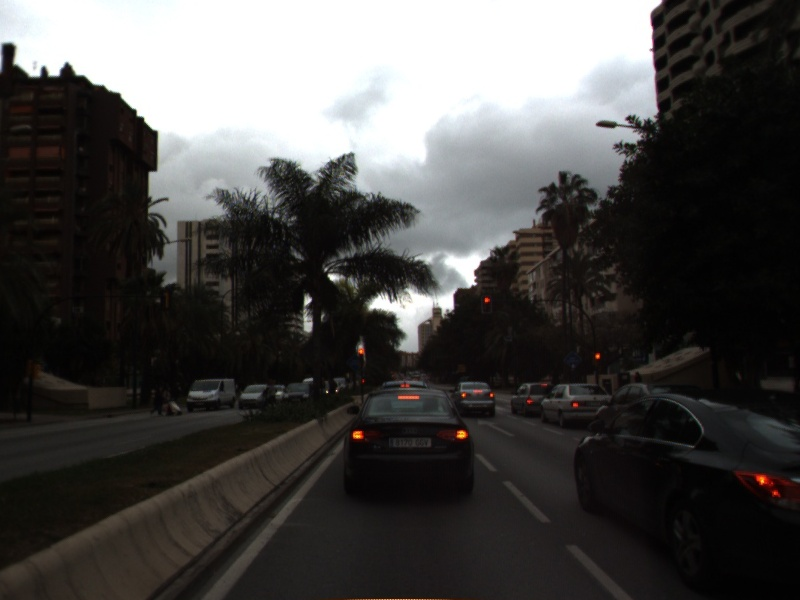STRAIGHT: (475, 415, 517, 439)
